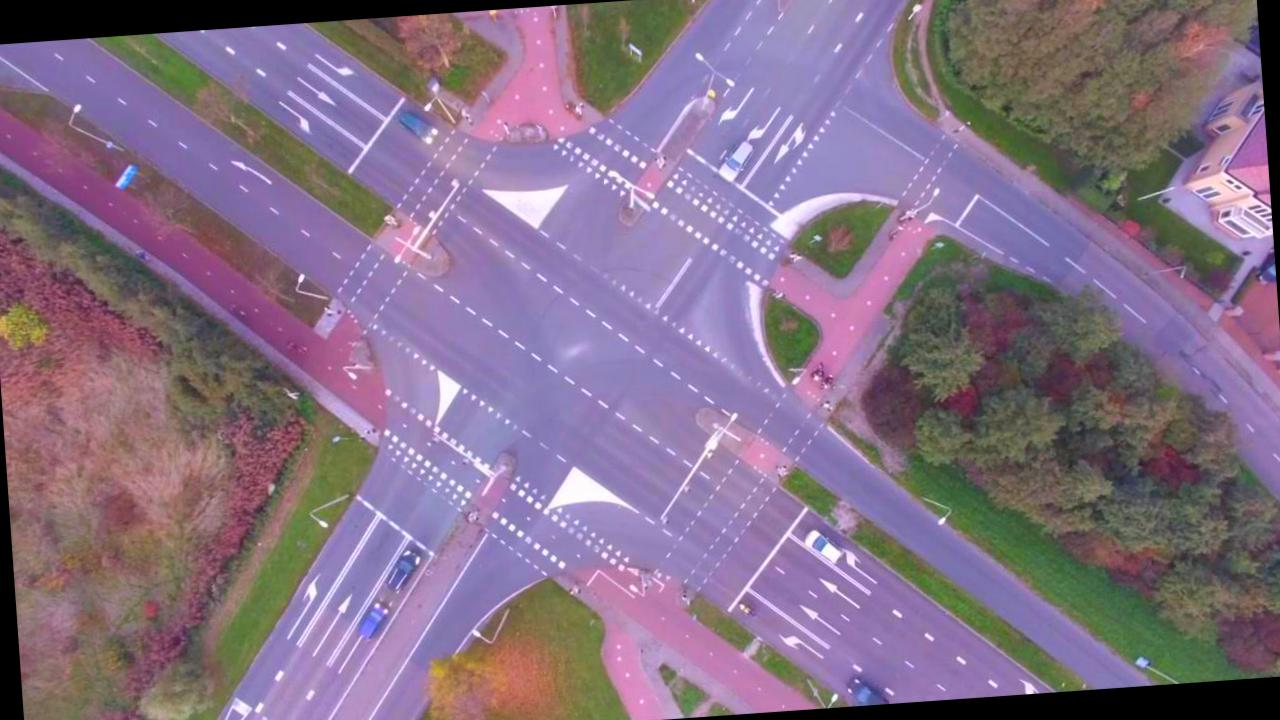vehicle: (381, 548, 424, 596), (715, 138, 757, 184), (844, 672, 894, 706), (802, 527, 843, 568), (396, 109, 438, 146), (354, 600, 391, 640)
